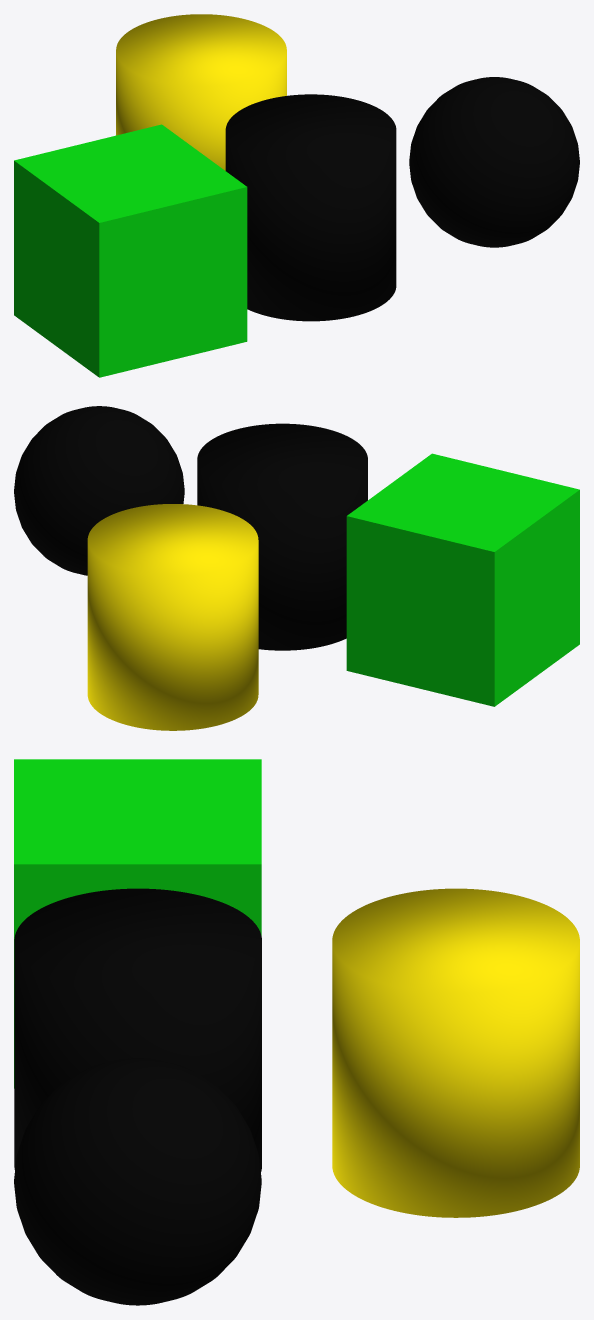
3 renders of one model, top to bottom at view 1: azimuth 30°, elevation 25°; view 2: azimuth 150°, elevation 25°; view 3: azimuth 270°, elevation 25°, orthographic. The views are drawn at different scales.
Parts seen in each view (by area): view 1: Cube, Cylinder, Sphere, Cylinder.001; view 2: Cube, Cylinder.001, Cylinder, Sphere; view 3: Cylinder.001, Sphere, Cylinder, Cube.
Boxes of the visible parts, <box> form: Cube: <box>14,124,247,377</box>; Cylinder: <box>225,94,396,321</box>; Sphere: <box>409,77,579,247</box>; Cylinder.001: <box>116,14,286,170</box>; Cube: <box>346,453,579,706</box>; Cylinder.001: <box>87,504,258,730</box>; Cylinder: <box>197,423,367,650</box>; Sphere: <box>14,406,184,575</box>; Cylinder.001: <box>332,888,579,1217</box>; Sphere: <box>14,1058,261,1305</box>; Cylinder: <box>14,888,261,1171</box>; Cube: <box>14,759,261,1088</box>.
Size of the model in its own units: 6.92 by 2.01 by 4.57.
